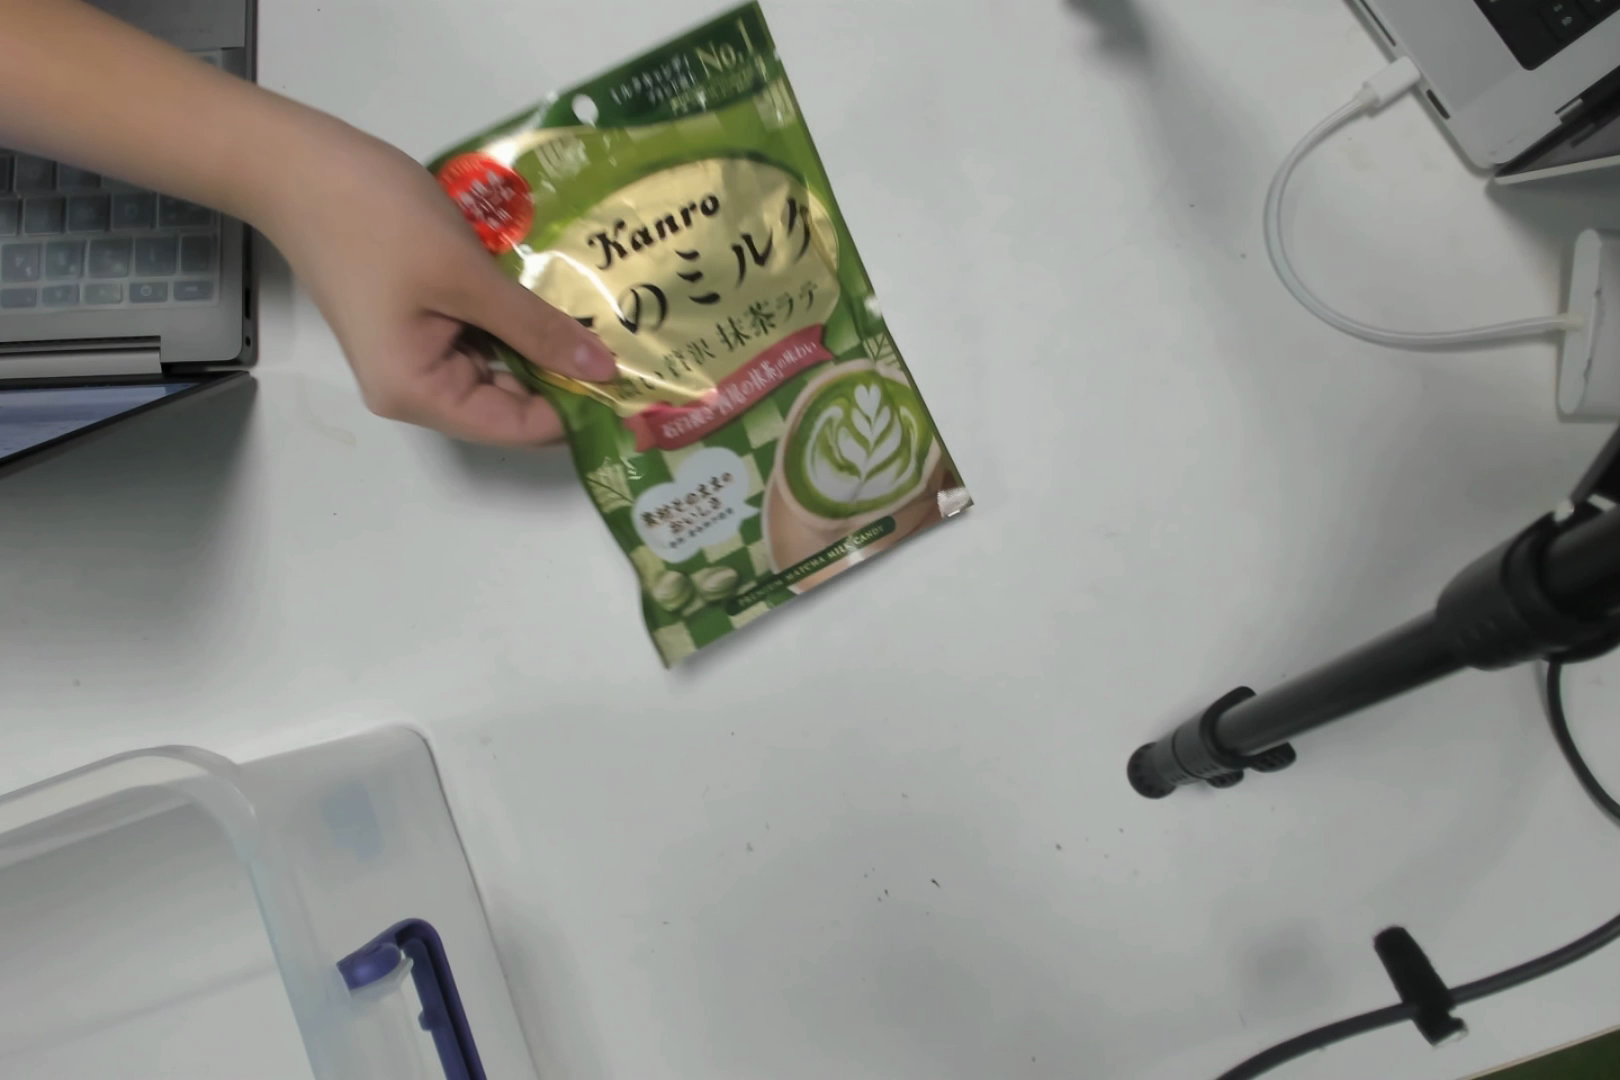SweetsChocolatesOthers_1-99g_NonHalal_NonHealthy: (522, 104, 937, 594)
